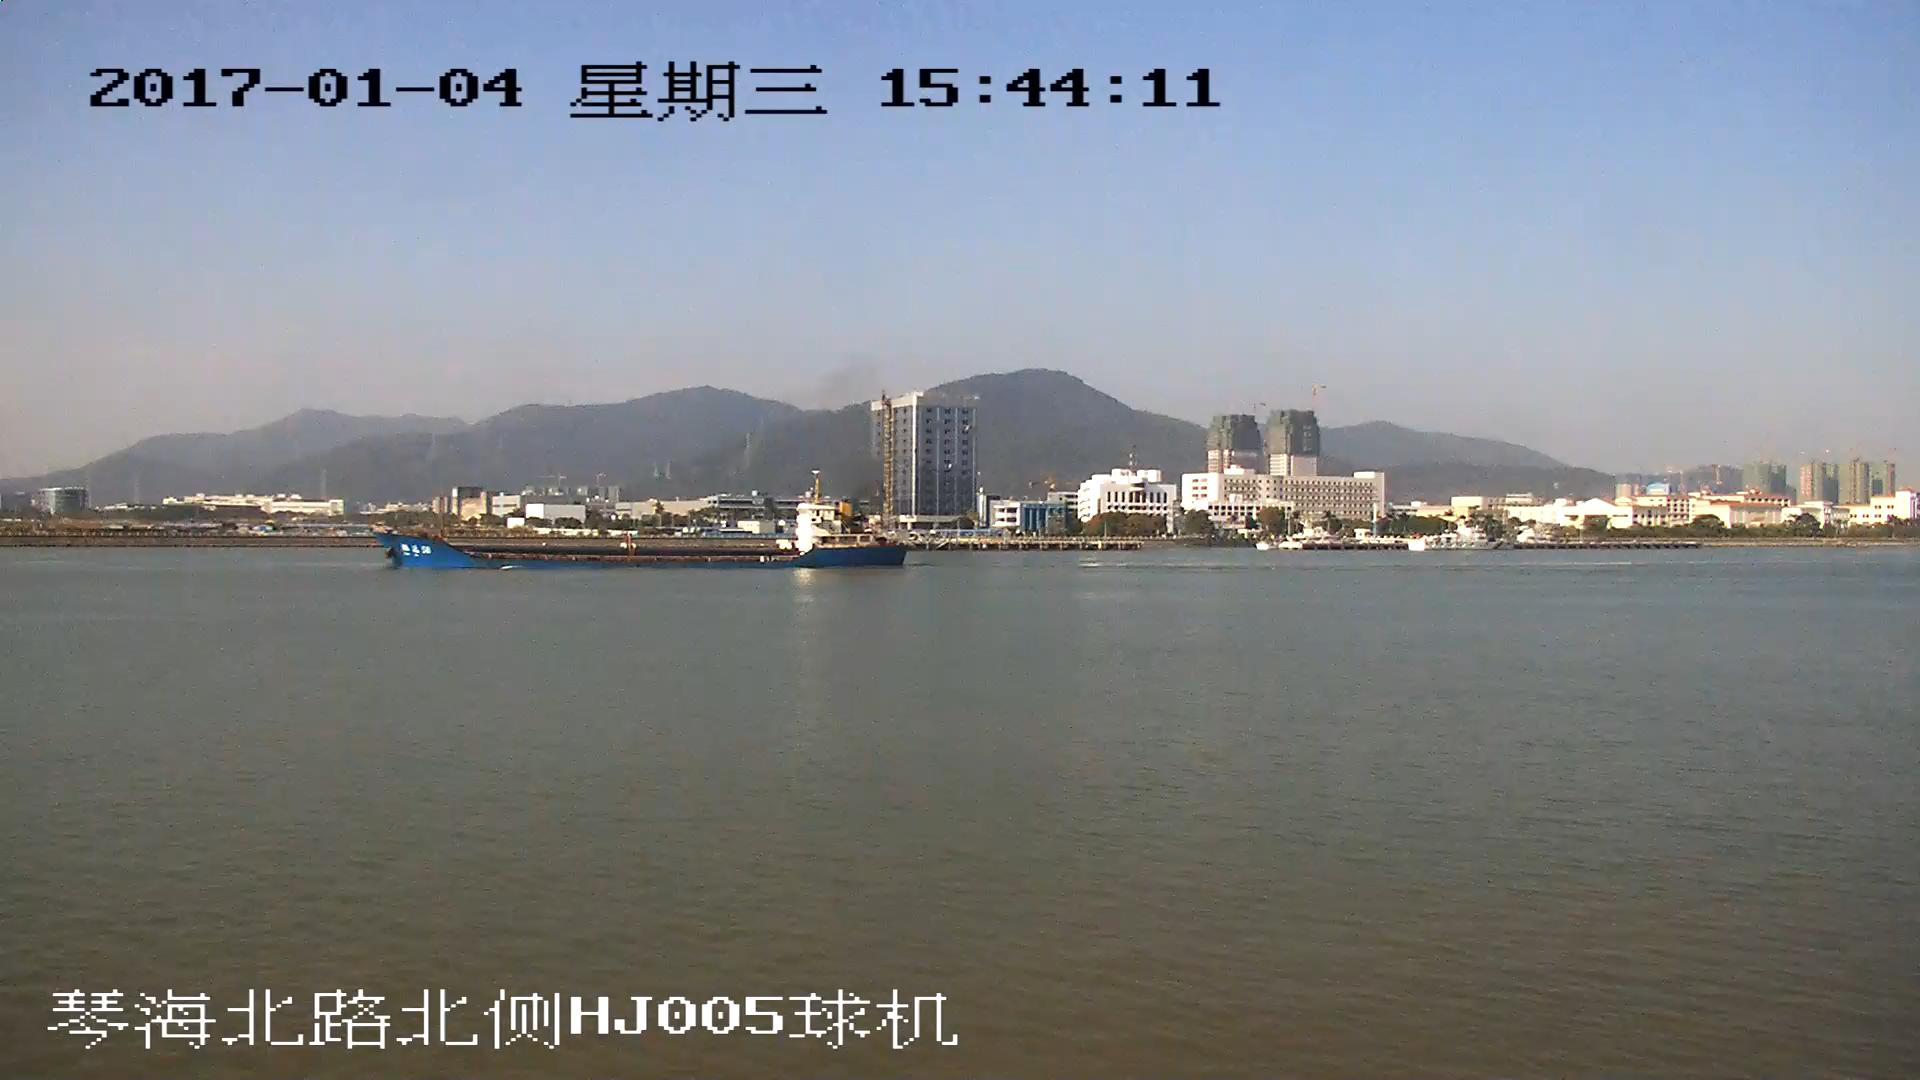general cargo ship: (378, 471, 906, 570)
